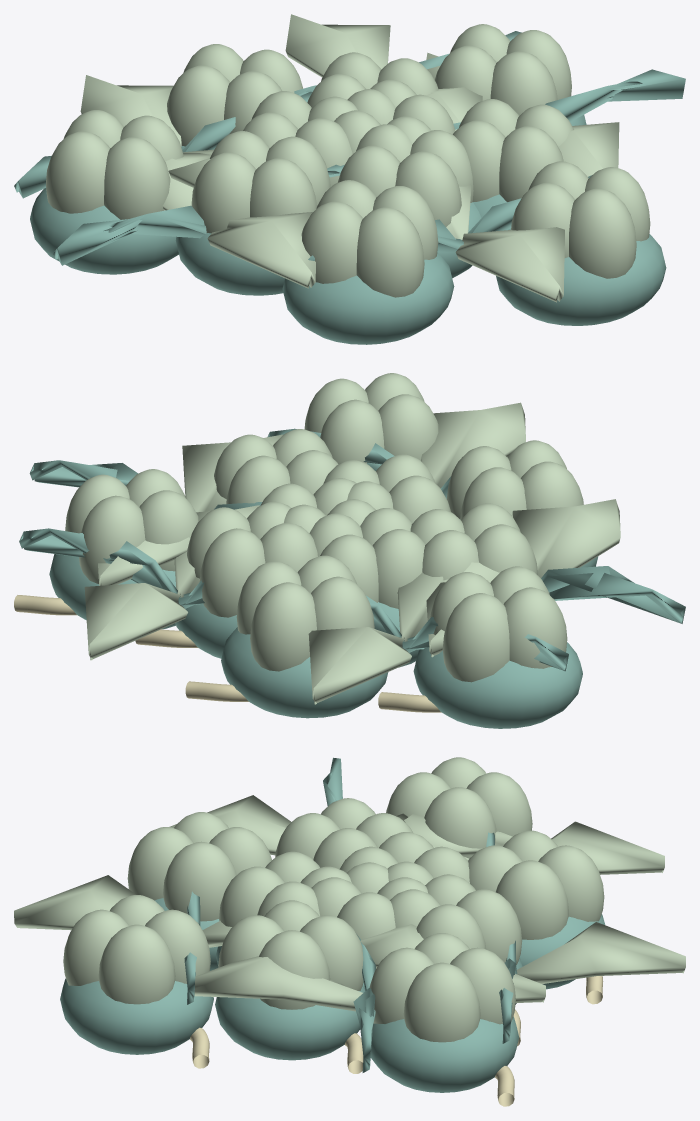
Rendered from bio_oxygen_reef_10_near.glb.
3 renders of one model, top to bottom at view 1: azimuth 30°, elevation 25°; view 2: azimuth 150°, elevation 25°; view 3: azimuth 270°, elevation 25°, orthographic. The views are drawn at different scales.
Visible parts, largest first — view 1: Lobed gas sac.028, Lobed gas sac.036, Lobed gas sac.040, Lobed gas sac.016, Photosynthetic cushion.007, Lobed gas sac.032, Lobed gas sac.020, Lobed gas sac.024, Lobed gas sac.008, Photosynthetic cushion.010, Low buttress leaf.009, Low buttress leaf.017 (+13 smaller); view 2: Lobed gas sac.036, Lobed gas sac.024, Lobed gas sac.032, Lobed gas sac.040, Lobed gas sac.012, Photosynthetic cushion.009, Lobed gas sac.028, Low buttress leaf.005, Lobed gas sac.004, Lobed gas sac.016, Lobed gas sac.020, Low buttress leaf.013 (+17 smaller); view 3: Lobed gas sac.040, Lobed gas sac.032, Lobed gas sac.024, Lobed gas sac.028, Lobed gas sac.036, Lobed gas sac.020, Photosynthetic cushion.008, Photosynthetic cushion.010, Low buttress leaf.013, Lobed gas sac.012, Photosynthetic cushion.005, Low buttress leaf.001 (+15 smaller).
Boxes of the visible parts, x1,y1,x2,y2 form: Lobed gas sac.028: [301, 180, 438, 297]; Lobed gas sac.036: [46, 110, 183, 219]; Lobed gas sac.040: [511, 161, 650, 278]; Lobed gas sac.016: [191, 131, 330, 233]; Photosynthetic cushion.007: [282, 252, 454, 344]; Lobed gas sac.032: [435, 24, 571, 115]; Lobed gas sac.020: [453, 99, 573, 201]; Lobed gas sac.024: [167, 44, 302, 146]; Lobed gas sac.008: [337, 124, 473, 226]; Photosynthetic cushion.010: [496, 234, 666, 325]; Low buttress leaf.009: [446, 183, 564, 302]; Low buttress leaf.017: [162, 153, 315, 288]; Lobed gas sac.036: [430, 566, 567, 682]; Lobed gas sac.024: [236, 555, 374, 671]; Lobed gas sac.032: [65, 469, 198, 583]; Lobed gas sac.040: [304, 373, 438, 464]; Lobed gas sac.012: [187, 501, 317, 617]; Photosynthetic cushion.009: [413, 642, 582, 728]; Lobed gas sac.028: [447, 440, 583, 519]; Low buttress leaf.005: [308, 562, 499, 704]; Lobed gas sac.004: [309, 508, 425, 608]; Lobed gas sac.016: [410, 503, 537, 580]; Lobed gas sac.020: [214, 429, 338, 504]; Low buttress leaf.013: [84, 505, 259, 660]; Lobed gas sac.040: [63, 895, 210, 1004]; Lobed gas sac.032: [369, 933, 515, 1042]; Lobed gas sac.024: [468, 830, 604, 939]; Lobed gas sac.028: [127, 812, 271, 921]; Lobed gas sac.036: [386, 757, 532, 858]; Lobed gas sac.020: [218, 900, 363, 1009]; Photosynthetic cushion.008: [370, 1016, 518, 1092]; Photosynthetic cushion.010: [60, 978, 213, 1054]; Low buttress leaf.013: [360, 922, 685, 983]; Lobed gas sac.012: [390, 874, 522, 964]; Photosynthetic cushion.005: [215, 985, 364, 1060]; Low buttress leaf.001: [194, 956, 545, 1011].
Size of the model in its own units: 2.22 by 0.45 by 2.09.
